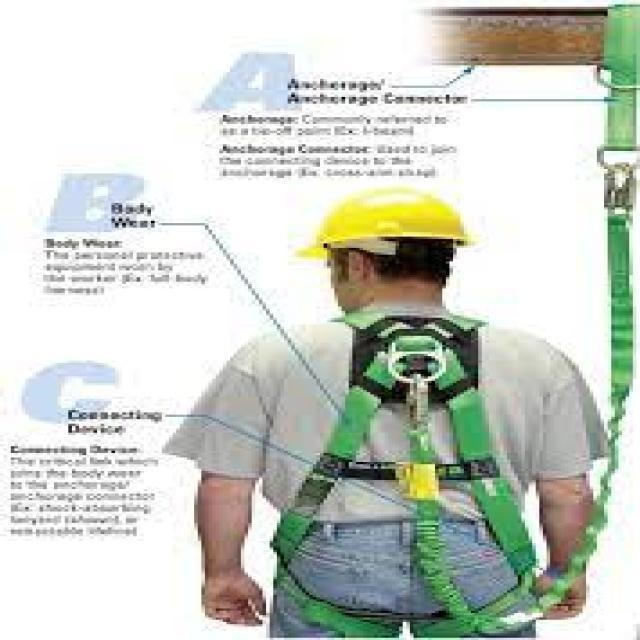Arnes_seguridad: (283, 301, 537, 630)
